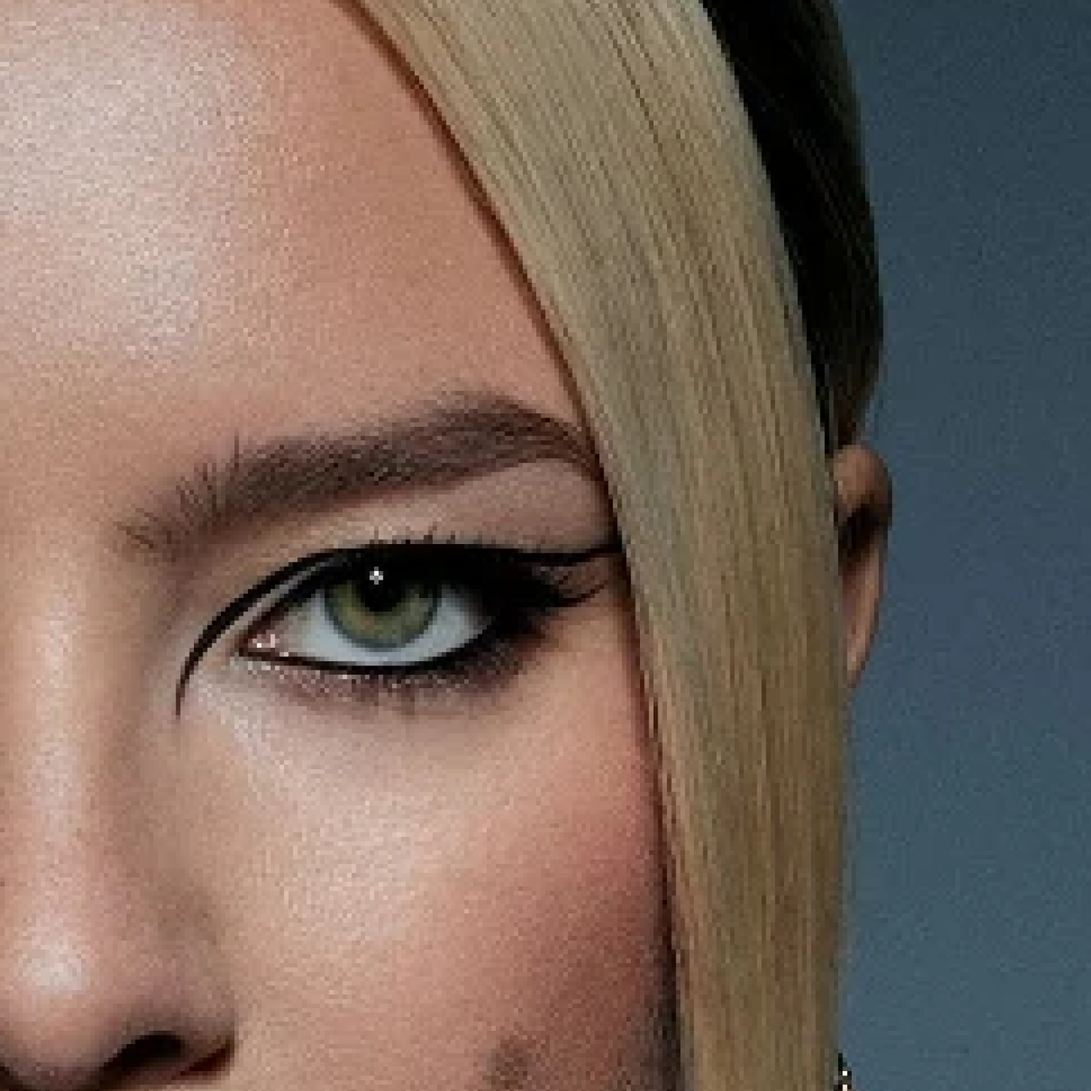iris: (327, 565, 442, 651)
pupil: (354, 556, 410, 611)
sclera: (275, 584, 482, 663)
